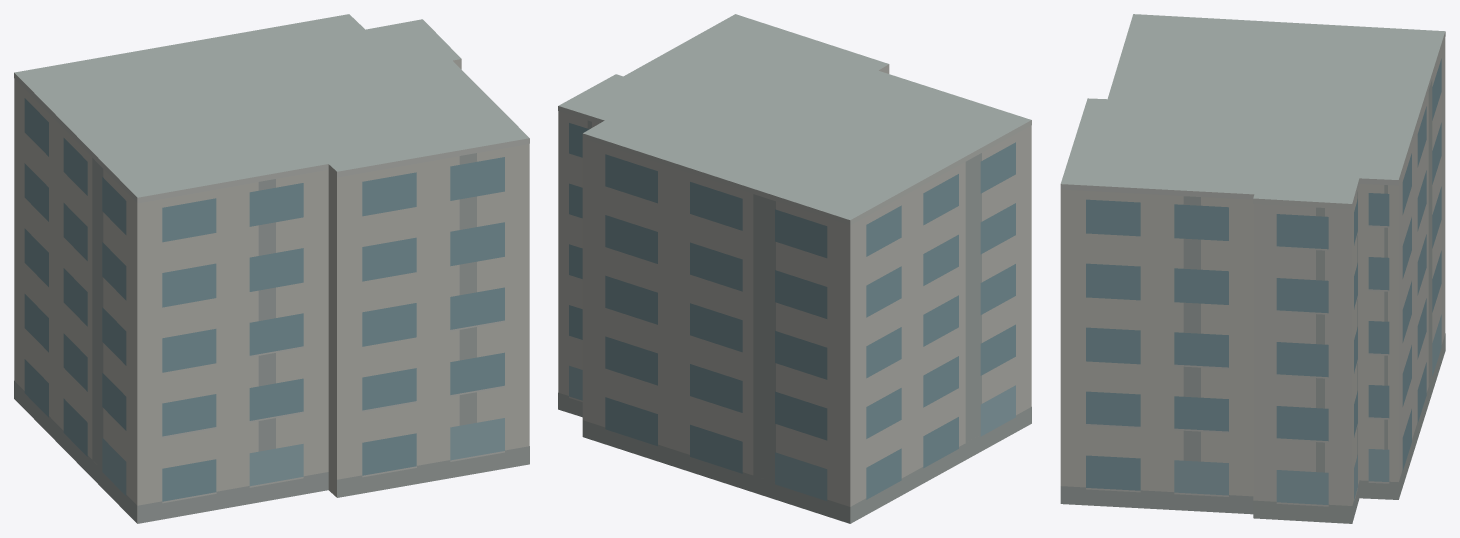
The model's file is survey-upis-32658076.glb.
3 renders of one model, left to right at view 1: azimuth 30°, elevation 25°; view 2: azimuth 150°, elevation 25°; view 3: azimuth 270°, elevation 25°, orthographic. The views are drawn at different scales.
Parts seen in each view (by area): view 1: survey-upis-32658076.tmp; view 2: survey-upis-32658076.tmp; view 3: survey-upis-32658076.tmp.
Boxes of the visible parts, x1=… form: survey-upis-32658076.tmp: x1=14, y1=14, x2=529, y2=523; survey-upis-32658076.tmp: x1=558, y1=14, x2=1031, y2=523; survey-upis-32658076.tmp: x1=1060, y1=14, x2=1445, y2=523.
Size of the model in its own units: 17.97 by 14.1 by 15.38.
